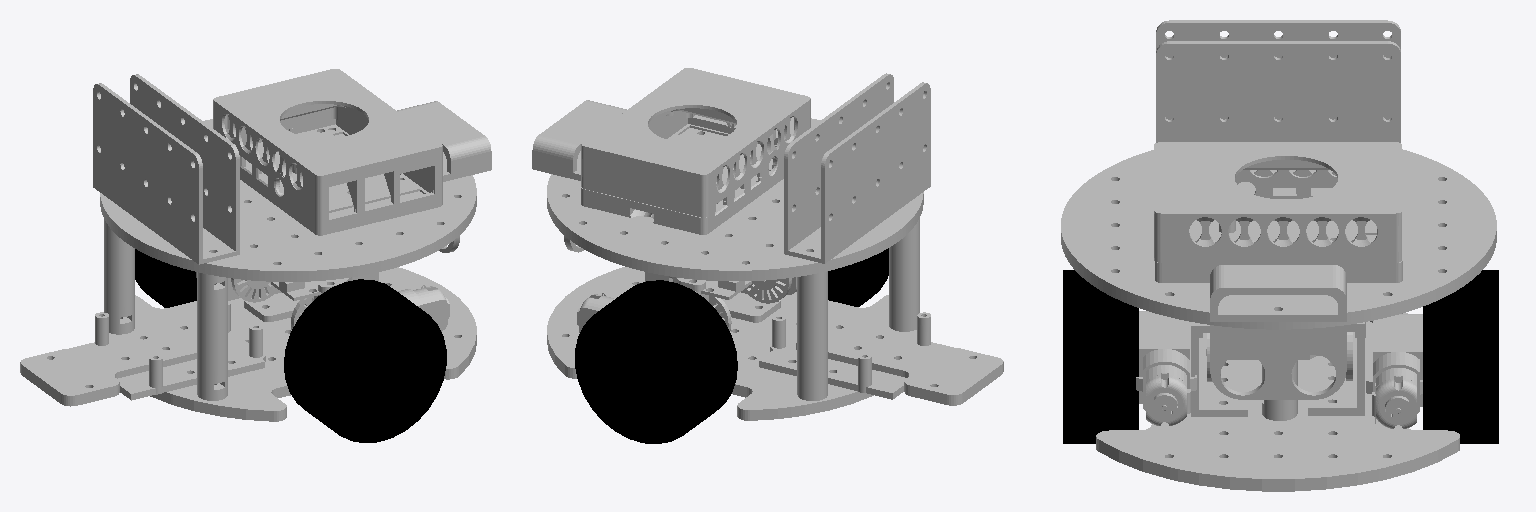
URDF robot description (mini_bot):
<?xml version="1.0"?>
<robot name="mini_bot">

  <!-- Base Link -->
  <link name="base_link">
    <visual>
    <origin xyz="0.035 -0.028 0" rpy="0.0 0.0 3.14159"/>
      <geometry>
        <mesh filename="package://mini_bot_description/meshes/mini_bot_structure.stl" scale="0.001 0.001 0.001"/>
      </geometry>
      <material name="light_gray">
        <color rgba="0.8 0.8 0.8 1.0"/>
      </material>
    </visual>
    <collision>
      <origin xyz="-0.05 0.025 0.075" rpy="0 0 0"/>
      <geometry>
        <box size="0.2 0.15 0.15"/>
      </geometry>
    </collision>
    <inertial>
      <mass value="1.0"/>
      <inertia ixx="0.01" iyy="0.01" izz="0.01" ixy="0.0" ixz="0.0" iyz="0.0"/>
    </inertial>
  </link>

  <!-- Left Wheel -->
  <link name="left_wheel_link">
    <visual>
      <origin xyz="0 0 0" rpy="1.5708 0 0"/>
      <geometry>
        <mesh filename="package://mini_bot_description/meshes/mini_bot_wheel.stl" scale="0.001 0.001 0.001"/>
      </geometry>
      <material name="black">
        <color rgba="0 0 0 1.0"/>
      </material>
    </visual>
    <collision>
      <origin xyz="0 0 0" rpy="1.5708 0 0"/>
      <geometry>
        <cylinder radius="0.0325" length="0.02"/>
      </geometry>
    </collision>
    <inertial>
      <mass value="0.2"/>
      <inertia ixx="0.001" iyy="0.001" izz="0.001" ixy="0.0" ixz="0.0" iyz="0.0"/>
    </inertial>
  </link>

  <!-- Right Wheel -->
  <link name="right_wheel_link">
    <visual>
      <origin xyz="0 0 0" rpy="-1.57 0.0 0.0"/>
      <geometry>
        <mesh filename="package://mini_bot_description/meshes/mini_bot_wheel.stl" scale="0.001 0.001 0.001"/>
      </geometry>
      <material name="black">
        <color rgba="0 0 0 1.0"/>
      </material>
    </visual>
    <collision>
      <origin xyz="0 0 0" rpy="1.5708 0 0"/>
      <geometry>
        <cylinder radius="0.0325" length="0.02"/>
      </geometry>
    </collision>
    <inertial>
      <mass value="0.2"/>
      <inertia ixx="0.001" iyy="0.001" izz="0.001" ixy="0.0" ixz="0.0" iyz="0.0"/>
    </inertial>
  </link>

  <!-- Left Wheel Joint --> 
  <joint name="left_wheel_joint" type="continuous">
    <parent link="base_link"/>
    <child link="left_wheel_link"/>
    <origin xyz="0.0 0.08 0.0325" rpy="0 0 0"/>
    <axis xyz="0 1 0"/>
  </joint>

  <!-- Right Wheel Joint --> 
  <joint name="right_wheel_joint" type="continuous">
    <parent link="base_link"/>
    <child link="right_wheel_link"/>
    <origin xyz="0.0 -0.08 0.0325" rpy="0 0 0"/>
    <axis xyz="0 1 0"/>
  </joint>

  <!-- Sensor Links and Joints -->
  <link name="range_link"></link>
  <joint name="range_joint" type="fixed">
    <parent link="base_link"/>
    <child link="range_link"/>
    <origin xyz="0.08 0.0 0.06" rpy="0 0 0"/>
  </joint>

  <link name="camera_link"></link>
  <joint name="camera_joint" type="fixed">
    <parent link="base_link"/>
    <child link="camera_link"/>
    <origin xyz="0.105 -0.02 0.105" rpy="0 1.57 0"/>
  </joint>

  <link name="imu_link"></link>
  <joint name="imu_joint" type="fixed">
    <parent link="base_link"/>
    <child link="imu_link"/>
    <origin xyz="0.0 0.04 0.12" rpy="0 0 0"/>
  </joint>

</robot>

--- What the picture shows (computed from the rendered views, not written in the file) ---
The picture shows the robot from 3 angles, left to right: view 1: azimuth 30°, elevation 25°; view 2: azimuth 150°, elevation 25°; view 3: azimuth 270°, elevation 25°; orthographic projection.
Robot: mini_bot — 6 links, 5 joints (2 continuous, 3 fixed); root link base_link; default pose: all joints at 0.
Visible links, largest first — view 1: base_link, right_wheel_link, left_wheel_link; view 2: base_link, left_wheel_link, right_wheel_link; view 3: base_link, left_wheel_link, right_wheel_link.
Boxes of the visible links, x1,y1,x2,y2 form: base_link: [20, 69, 491, 421]; right_wheel_link: [284, 279, 446, 442]; left_wheel_link: [135, 249, 196, 307]; base_link: [532, 68, 1003, 420]; left_wheel_link: [575, 280, 737, 443]; right_wheel_link: [828, 248, 888, 306]; base_link: [1061, 20, 1496, 491]; left_wheel_link: [1423, 270, 1498, 443]; right_wheel_link: [1063, 270, 1138, 443].
Size in the robot's own frame: 0.2063 by 0.1609 by 0.1354 metres.
Meshes: 2 distinct files referenced, 3 mesh visuals loaded (2 binary STL).